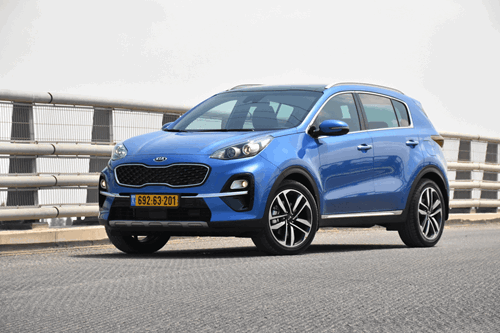licence: (131, 193, 180, 208)
